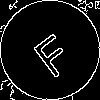F: (25, 25, 77, 80)
